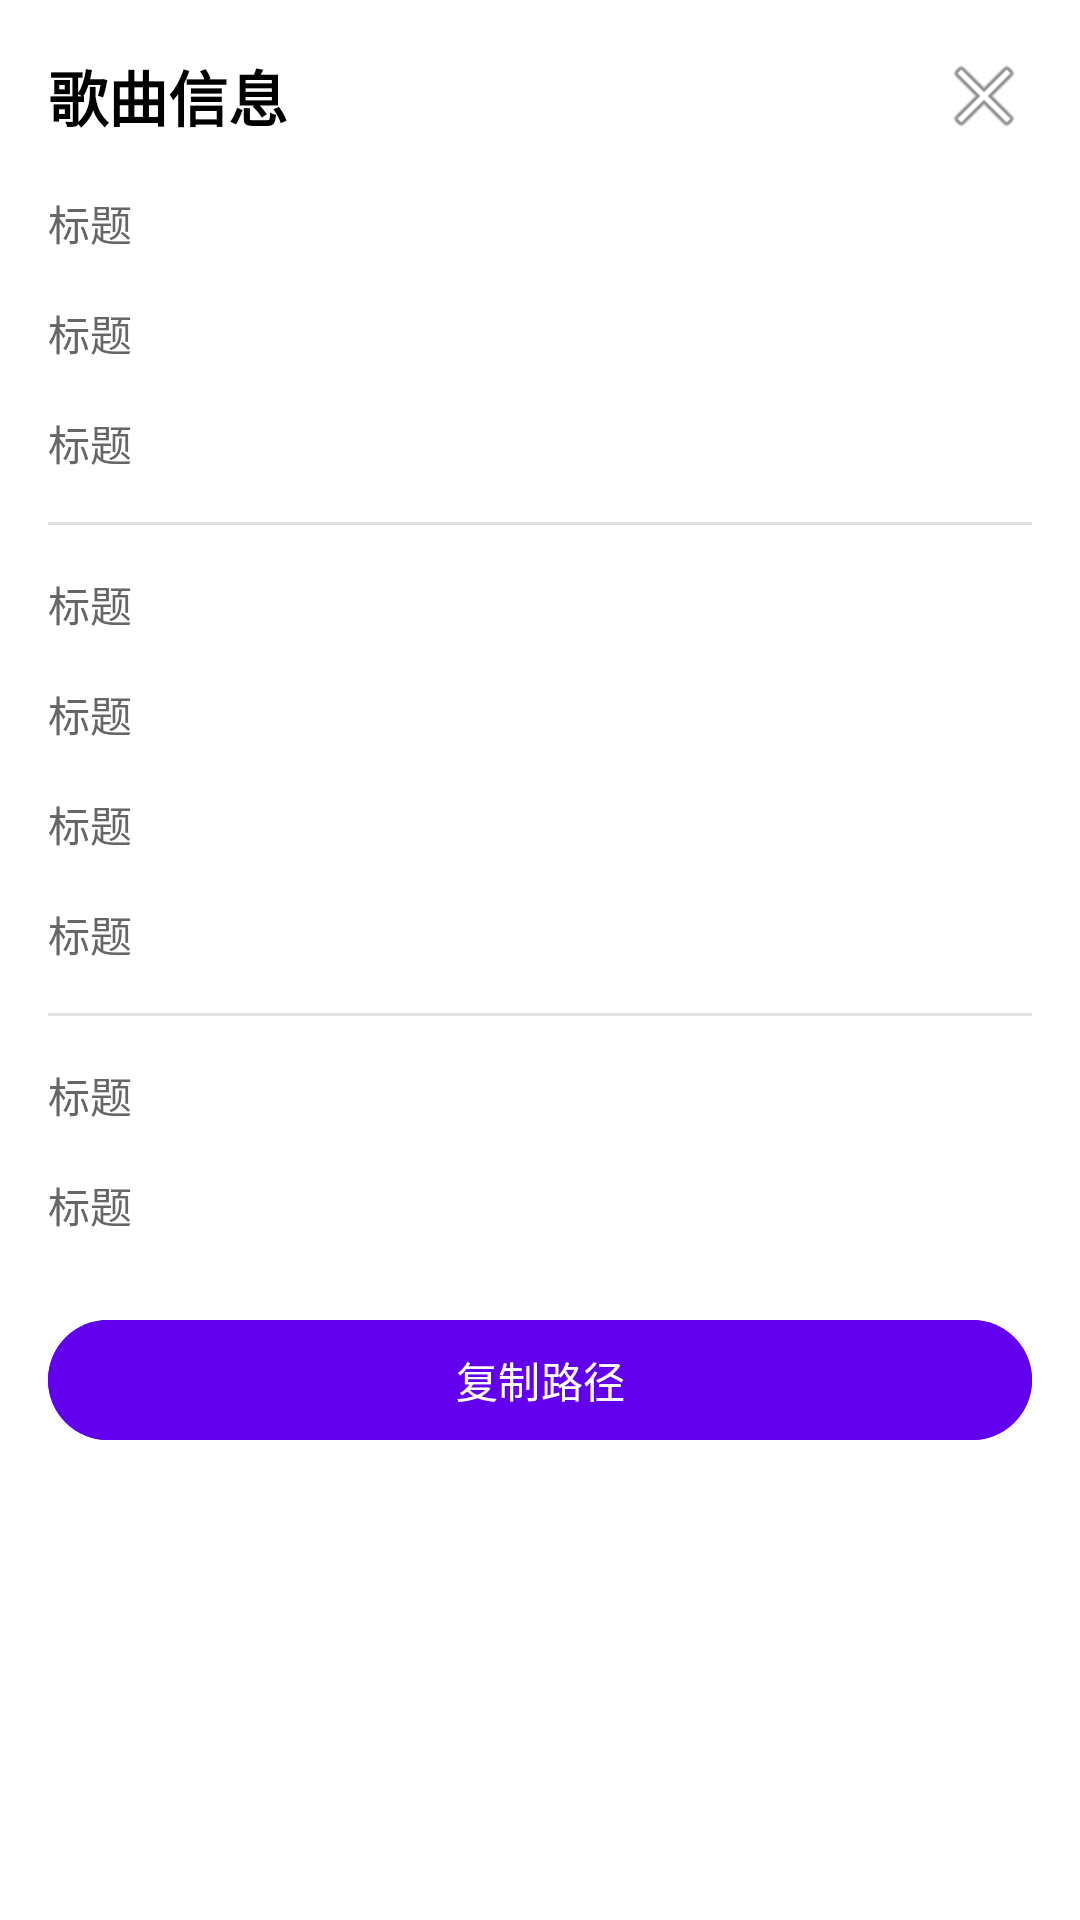

Icons on this 1080×1920 Android screen, each with its box as (x1, y1, x2, y2):
取消: (954, 66, 1014, 126)
